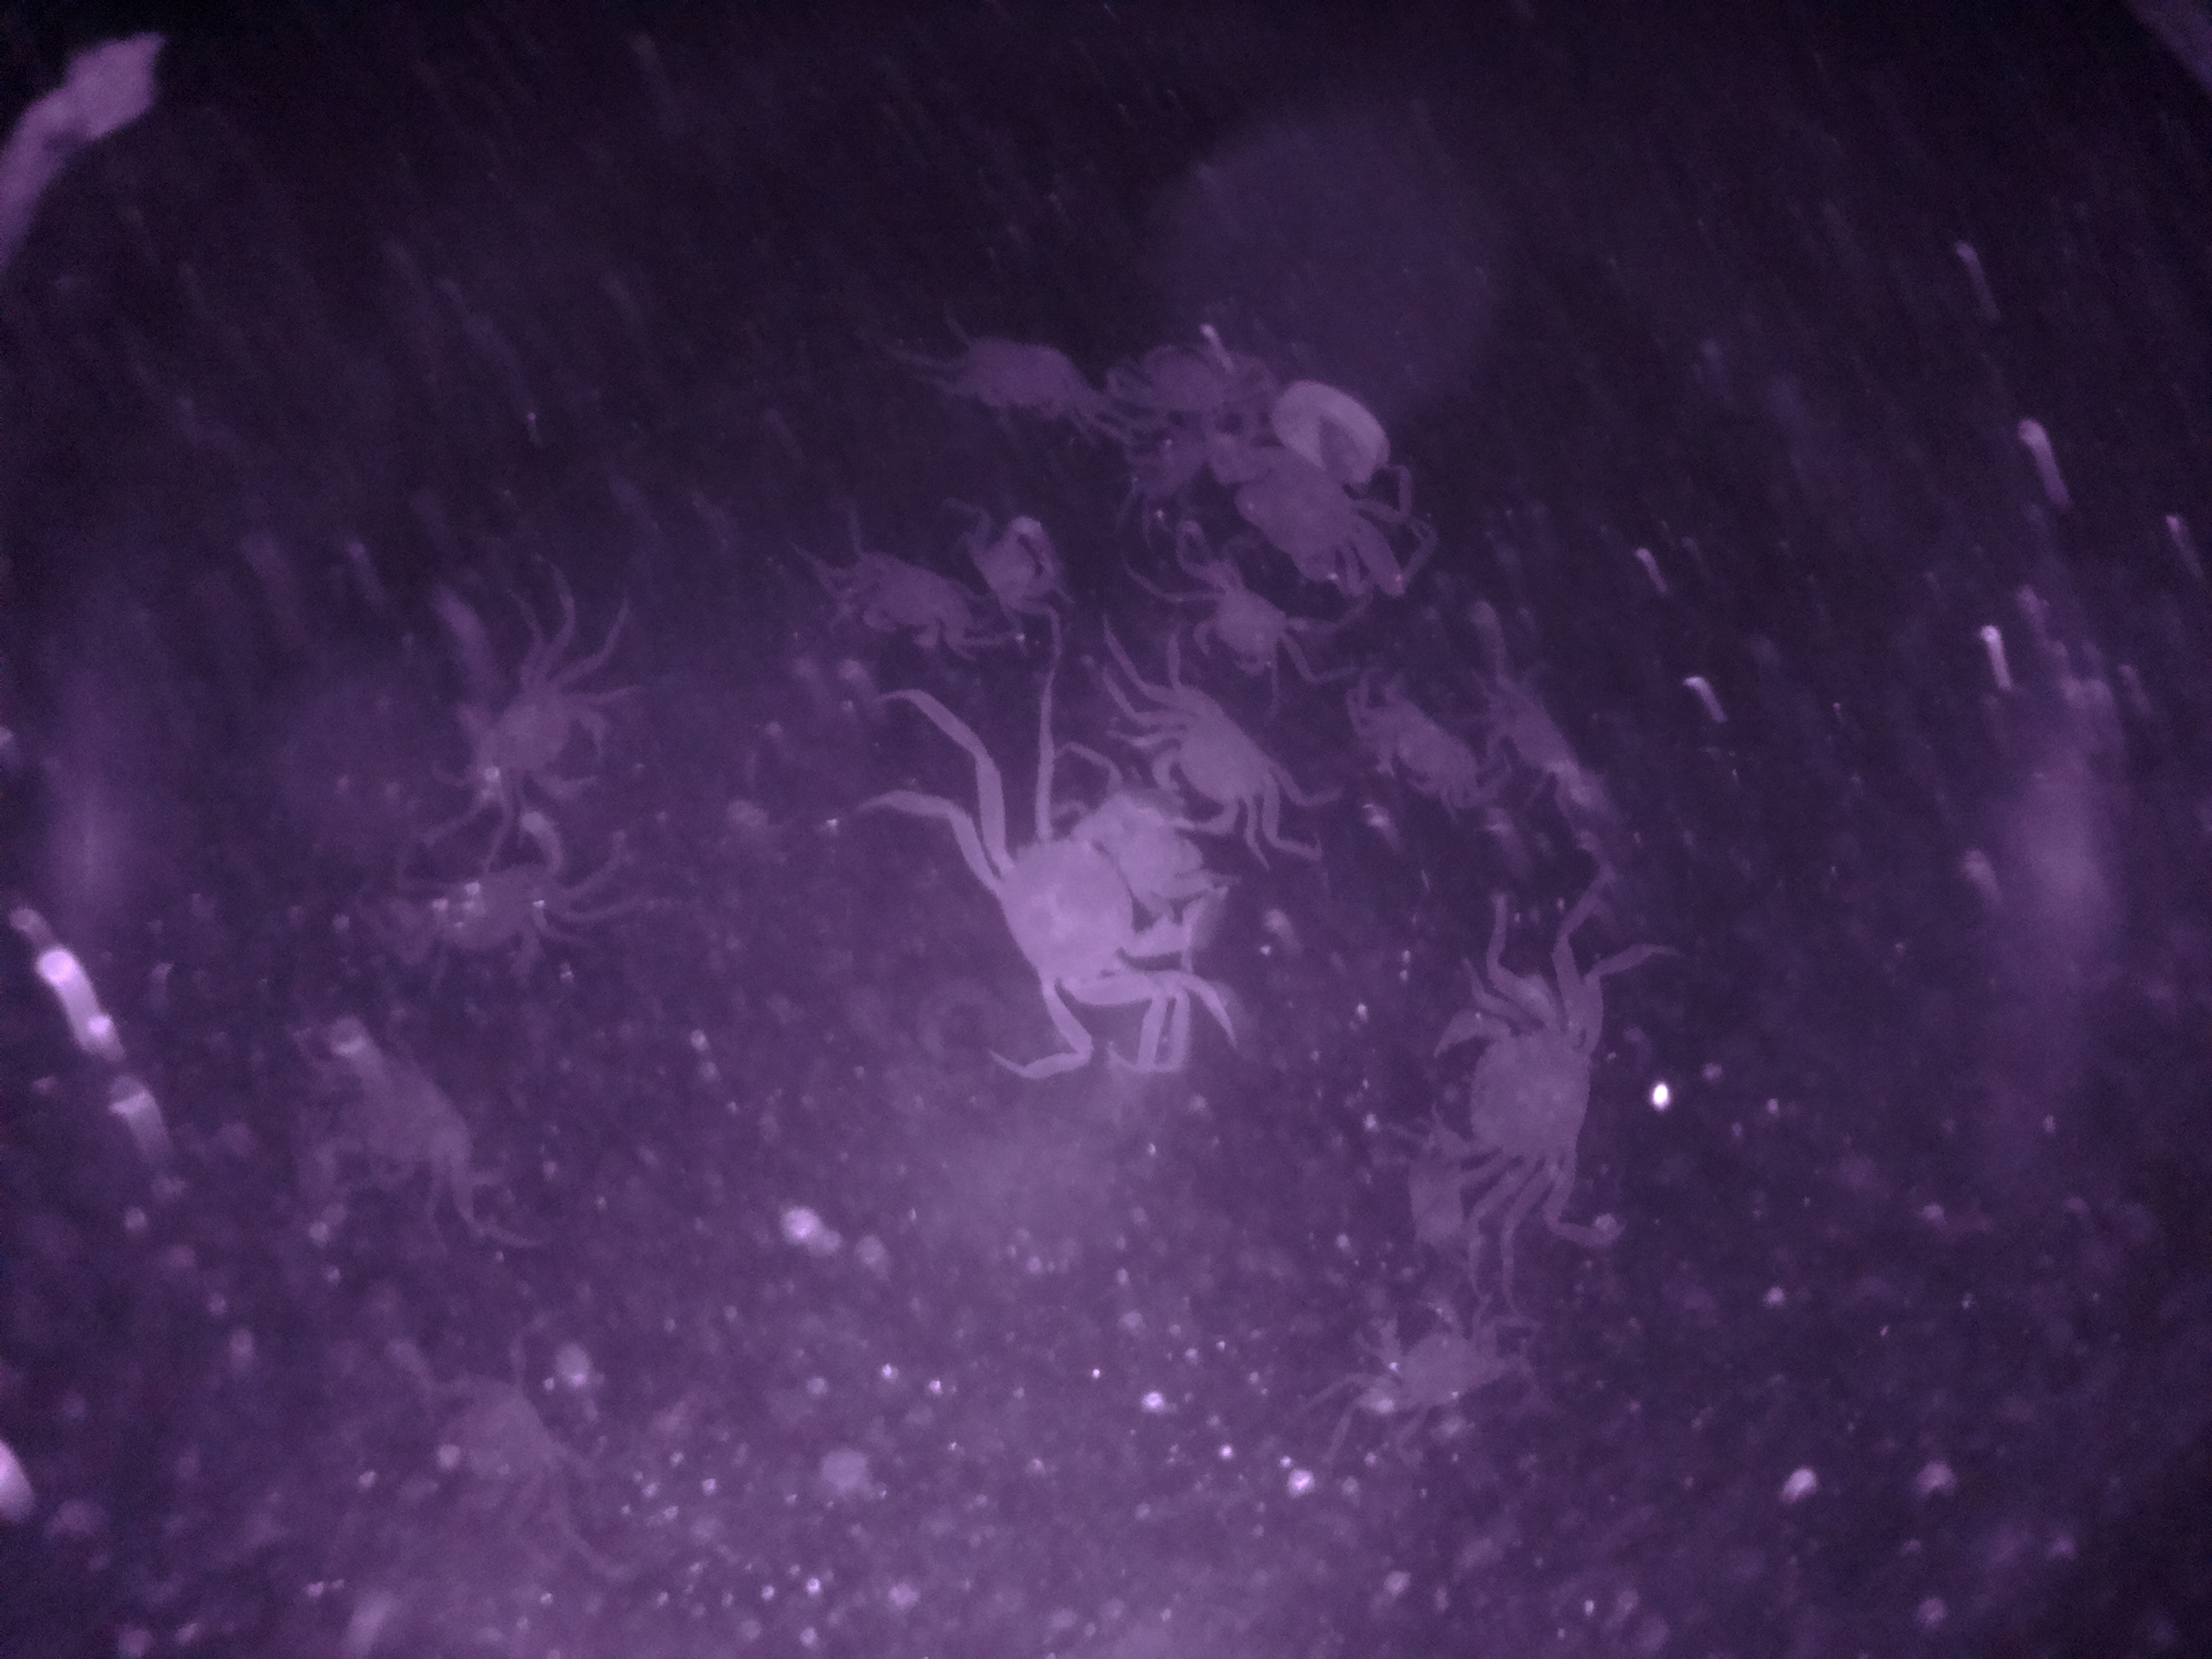Crab: (1393, 997, 1642, 1201), (1341, 1279, 1515, 1446), (460, 645, 627, 814), (1129, 688, 1296, 843), (1167, 565, 1299, 685), (1357, 688, 1475, 821), (836, 551, 968, 664)
